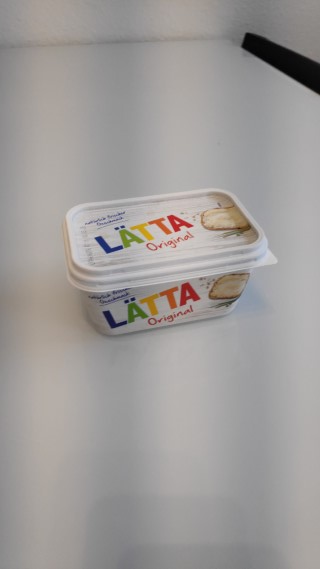laetta: (59, 187, 277, 334)
